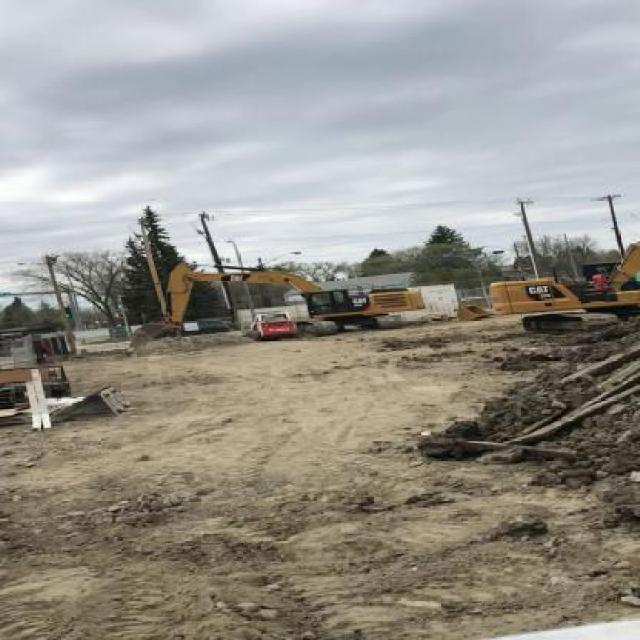excavator: (130, 260, 422, 342), (490, 238, 635, 345)
